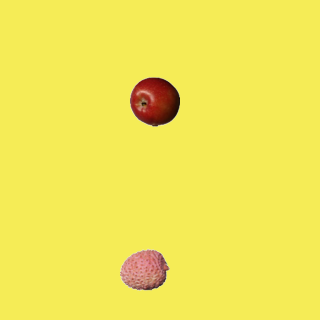Apple Braeburn: (129, 76, 179, 126)
Lychee: (119, 244, 169, 294)
